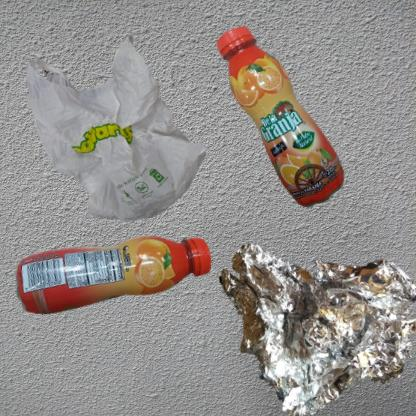aluminio: (213, 213, 416, 416)
bolsa: (10, 10, 248, 275)
botella: (213, 10, 372, 256), (10, 213, 229, 345)
